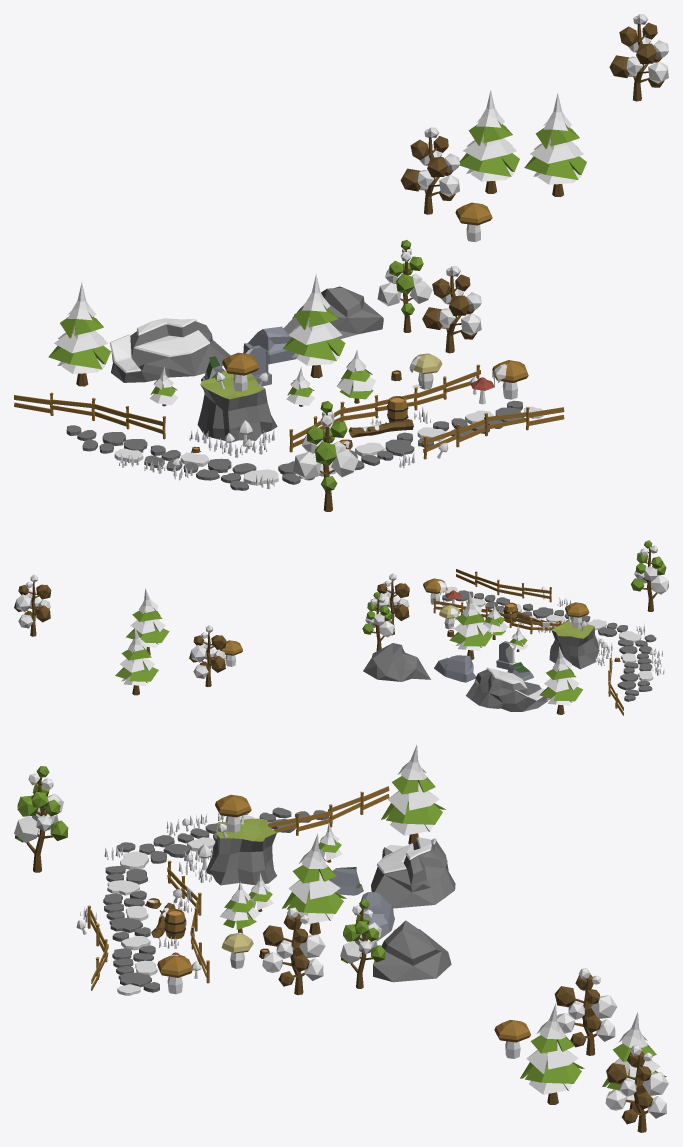
Rendered from Manhattan.fbx.
3 views of the same model, one above another, from view 1: azimuth 30°, elevation 25°; view 2: azimuth 150°, elevation 25°; view 3: azimuth 270°, elevation 25° (orthographic). The views are drawn at different scales.
Visible parts, largest first — view 1: Cliff, Rock1, Tree2.001, Conifer3, Conifer3.003, Conifer3.002, Conifer3.001, Tree3, Tree3.002, Tree3.001, Sphere.003, Tree2 (+10 smaller); view 2: Rock1, Cliff, Rock, Tree2.001, Conifer3.003, Conifer3.001, Conifer3, Tree3.002, Tree3.001, Conifer3.002, Tree3, Tree2 (+10 smaller); view 3: Cliff, Rock1, Rock, Conifer3.002, Conifer3.003, Tree3, Tree3.002, Tree3.001, Conifer3, Tree2.001, Tree2, Conifer3.001 (+11 smaller).
Part boxes in pixels (<box>): Cliff: <box>197,370,277,442</box>; Rock1: <box>111,321,230,382</box>; Tree2.001: <box>293,401,358,511</box>; Conifer3: <box>283,274,345,378</box>; Conifer3.003: <box>48,282,110,386</box>; Conifer3.002: <box>524,93,586,196</box>; Conifer3.001: <box>459,90,519,193</box>; Tree3: <box>422,266,481,353</box>; Tree3.002: <box>609,14,668,101</box>; Tree3.001: <box>400,127,459,214</box>; Sphere.003: <box>109,318,209,373</box>; Tree2: <box>377,240,432,332</box>; Rock1: <box>466,669,547,711</box>; Cliff: <box>549,620,599,669</box>; Rock: <box>363,643,430,681</box>; Tree2.001: <box>631,540,668,611</box>; Conifer3.003: <box>539,646,582,714</box>; Conifer3.001: <box>115,627,158,695</box>; Conifer3: <box>449,592,492,659</box>; Tree3.002: <box>14,574,51,636</box>; Tree3.001: <box>189,625,226,686</box>; Conifer3.002: <box>126,588,169,655</box>; Tree3: <box>374,573,409,635</box>; Tree2: <box>362,591,394,650</box>; Cliff: <box>205,818,276,885</box>; Rock1: <box>371,841,455,908</box>; Rock: <box>373,920,451,982</box>; Conifer3.002: <box>520,1003,584,1104</box>; Conifer3.003: <box>381,744,445,844</box>; Tree3: <box>262,907,325,995</box>; Tree3.002: <box>605,1045,668,1132</box>; Tree3.001: <box>554,968,617,1055</box>; Conifer3: <box>282,833,346,934</box>; Tree2.001: <box>14,766,68,872</box>; Tree2: <box>340,899,385,988</box>; Conifer3.001: <box>602,1012,666,1112</box>.
Bounding box in the file's own units: 1574 × 271 × 1161.
